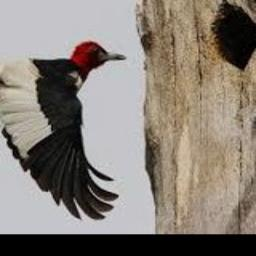Woodpecker: (0, 41, 125, 220)
